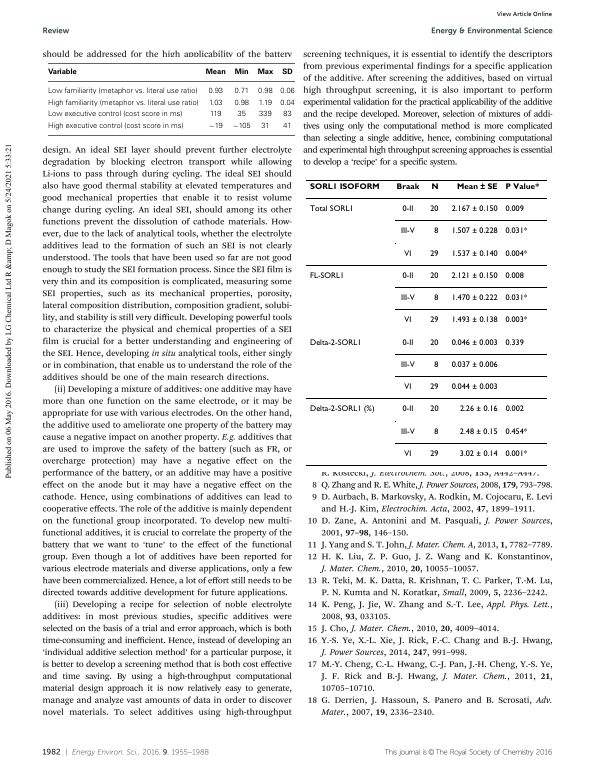borderless: (305, 178, 547, 465), (47, 62, 295, 136)
cell: (46, 99, 199, 108), (46, 87, 198, 96), (46, 122, 184, 131), (46, 110, 183, 119), (308, 405, 375, 415), (308, 338, 362, 348), (308, 183, 380, 190), (450, 227, 498, 237), (450, 249, 498, 259), (450, 271, 498, 281), (450, 293, 498, 303), (450, 316, 498, 326), (450, 338, 498, 348), (450, 360, 498, 370), (450, 205, 498, 214), (450, 383, 498, 392), (308, 205, 354, 214), (458, 405, 498, 415), (458, 427, 498, 437), (458, 449, 498, 459), (308, 271, 345, 281), (455, 183, 498, 190), (46, 68, 77, 76), (504, 183, 539, 190), (504, 227, 528, 237), (504, 249, 528, 259), (504, 293, 528, 303), (504, 316, 528, 326), (504, 427, 528, 437), (504, 449, 528, 459), (504, 271, 524, 281), (504, 338, 524, 348), (504, 405, 524, 415), (231, 122, 251, 131), (504, 205, 524, 214), (204, 68, 226, 76), (395, 183, 420, 190), (399, 227, 415, 237), (399, 293, 415, 303), (399, 360, 415, 370), (399, 427, 415, 437), (256, 87, 273, 96), (207, 87, 223, 96), (233, 87, 249, 96), (279, 87, 295, 96), (207, 99, 223, 108), (233, 99, 249, 108), (279, 99, 295, 108), (207, 122, 223, 131), (256, 68, 273, 76), (257, 99, 272, 108), (257, 110, 272, 119), (401, 271, 414, 281), (401, 338, 414, 348), (401, 405, 414, 415), (233, 68, 249, 76), (208, 110, 222, 119), (401, 205, 414, 214), (429, 249, 439, 259), (429, 271, 439, 281), (429, 316, 439, 326), (429, 338, 439, 348), (429, 405, 439, 415), (429, 449, 439, 459), (281, 68, 293, 76), (236, 110, 246, 119), (282, 110, 292, 119), (260, 122, 270, 131), (282, 122, 292, 131), (429, 205, 439, 214), (403, 249, 412, 259), (403, 316, 412, 326), (429, 383, 439, 392), (403, 449, 412, 459), (403, 383, 412, 392), (430, 183, 439, 190), (433, 227, 439, 237), (433, 293, 439, 303), (433, 360, 439, 370), (433, 427, 439, 437)
